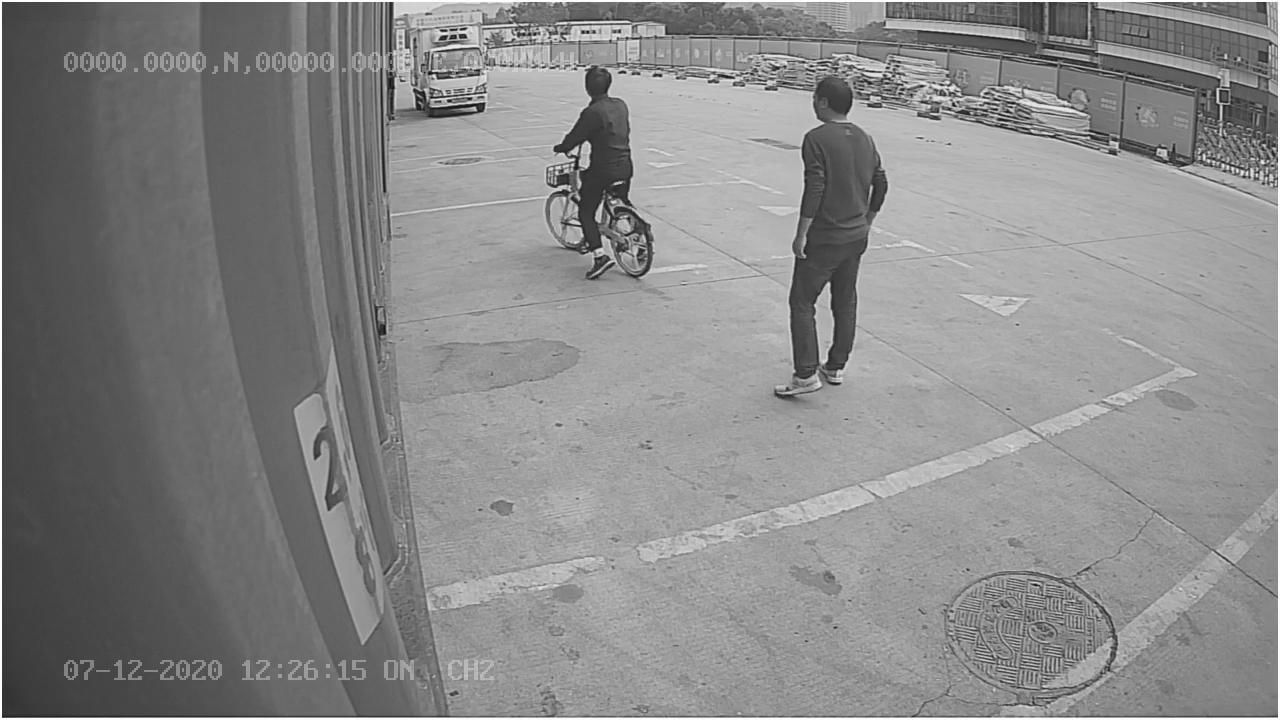person: (761, 71, 898, 401)
